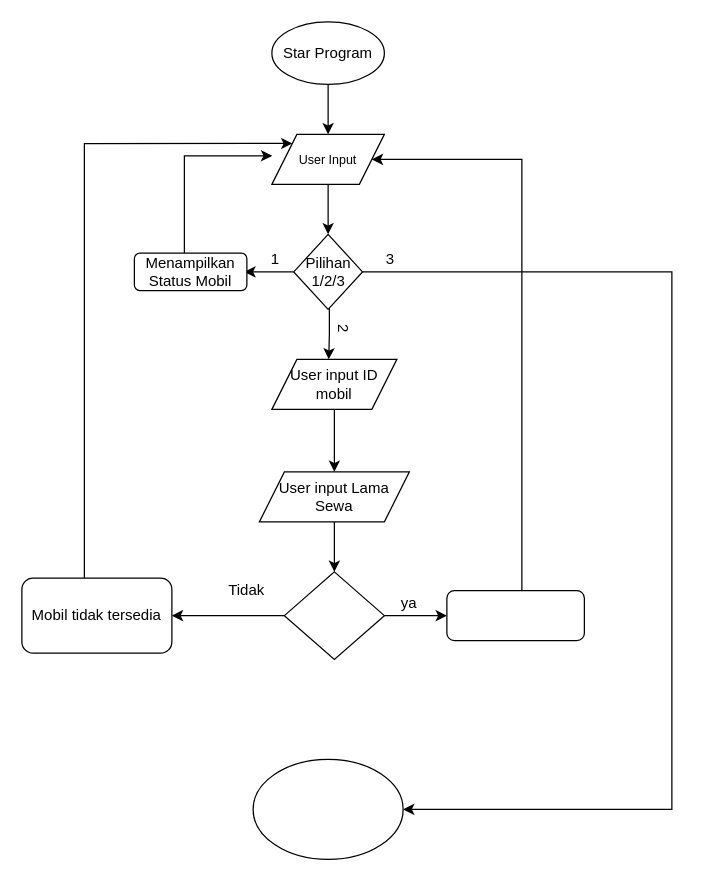
This 704x881 diagram has some shape labels left out. The centre of each missing label's shape, as x and y in pixels:
Menampilkan Status Mobil yang disewa: the point at 515,615
Mobil tersedia: the point at 333,615
Selesai: the point at 327,808
